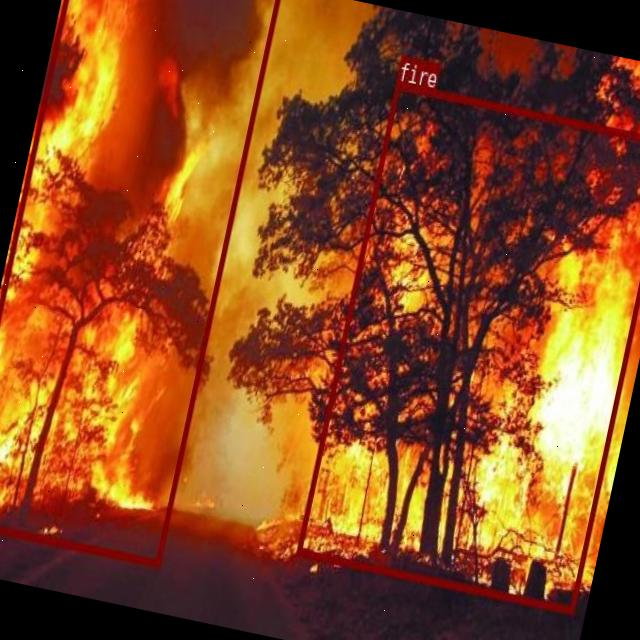fire: (295, 80, 640, 612), (0, 0, 282, 564)
